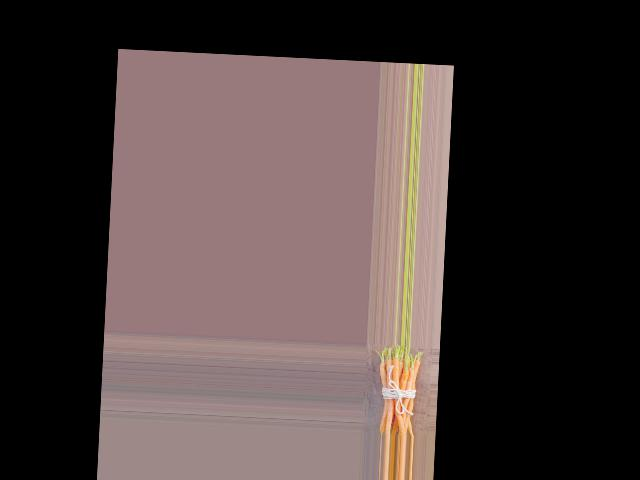carrot: (374, 354, 388, 433)
